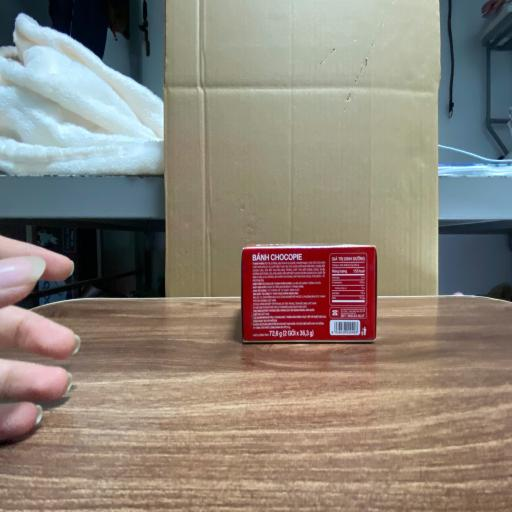chocopie: (241, 247, 377, 342)
